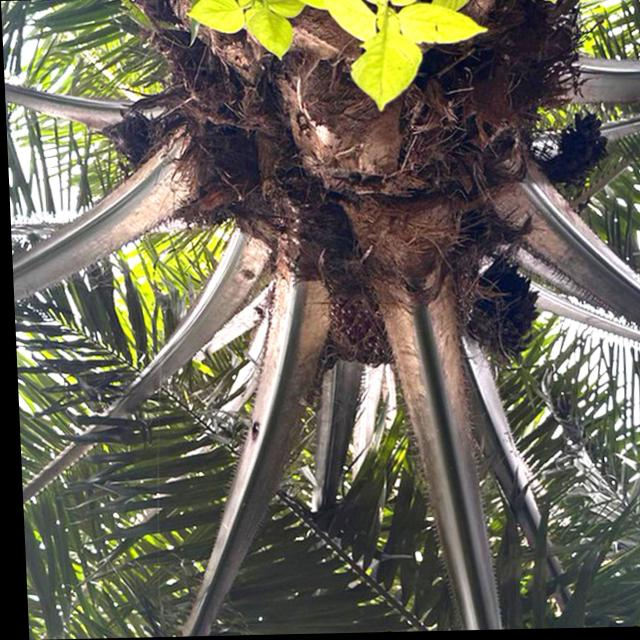ripe: (312, 279, 389, 372)
